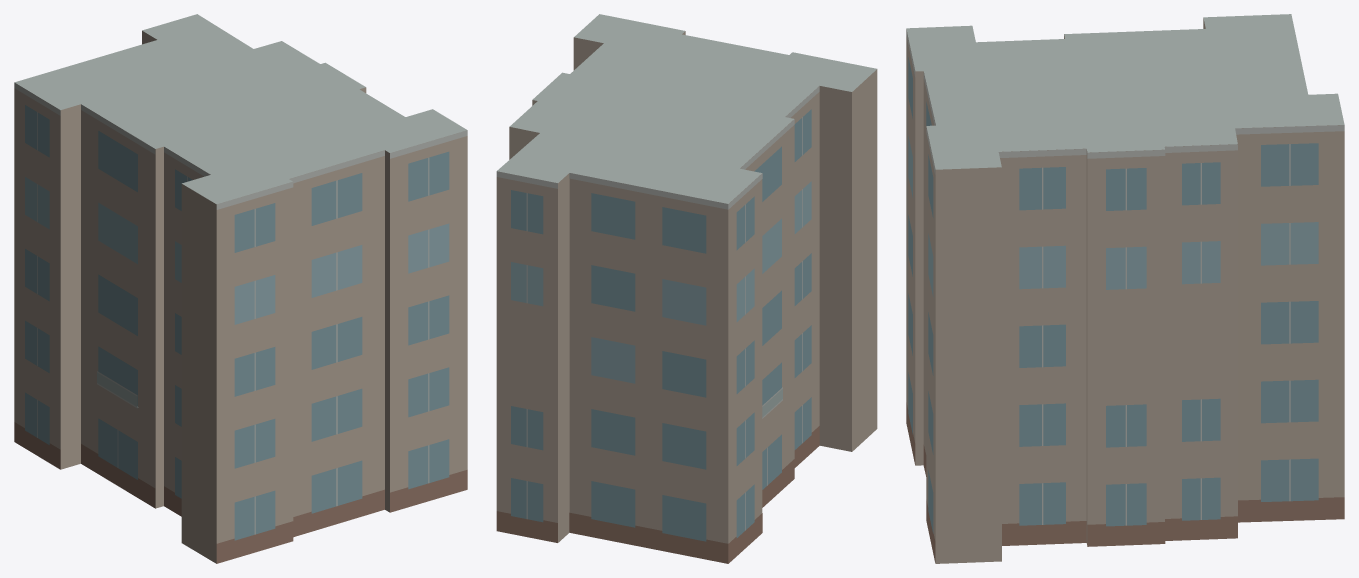
File: survey-upis-32743564.glb
3 renders of one model, left to right at view 1: azimuth 30°, elevation 25°; view 2: azimuth 150°, elevation 25°; view 3: azimuth 270°, elevation 25°, orthographic. The views are drawn at different scales.
Parts seen in each view (by area): view 1: survey-upis-32743564.tmp; view 2: survey-upis-32743564.tmp; view 3: survey-upis-32743564.tmp.
Part boxes in pixels (x1,y1,x2,y2): survey-upis-32743564.tmp: [14, 14, 467, 563]; survey-upis-32743564.tmp: [496, 14, 877, 563]; survey-upis-32743564.tmp: [906, 14, 1344, 563].
Bounding box in the file's own units: 12.97 × 15.3 × 15.43.
